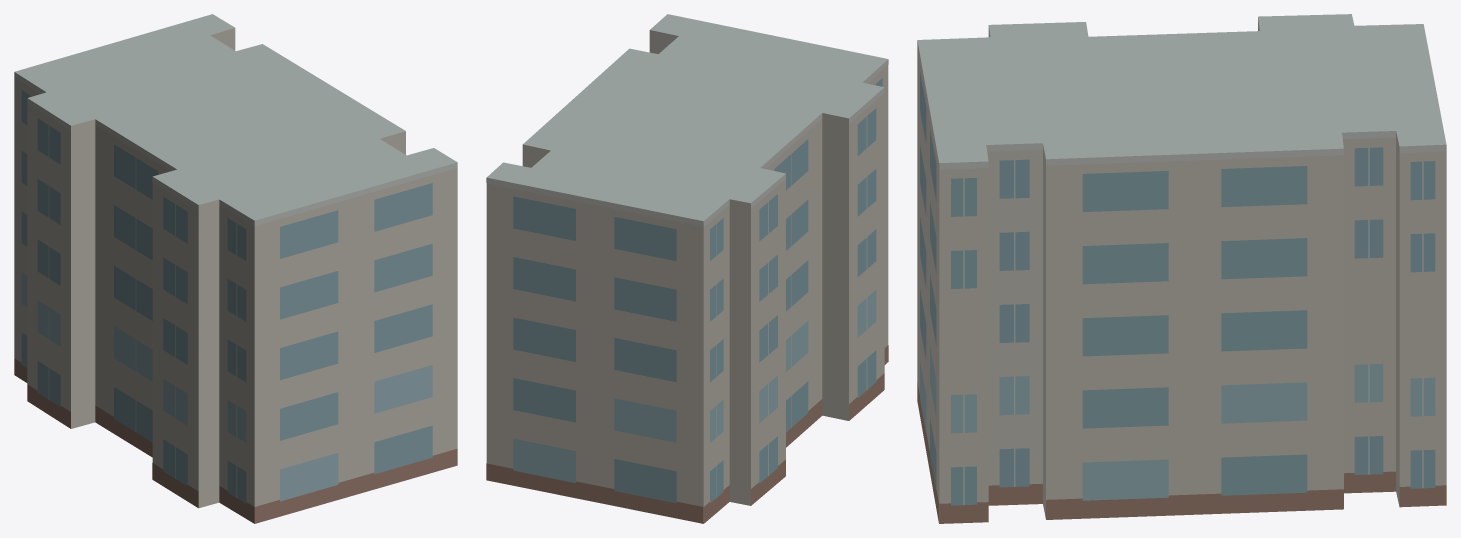
File: survey-upis-32755193.glb
3 renders of one model, left to right at view 1: azimuth 30°, elevation 25°; view 2: azimuth 150°, elevation 25°; view 3: azimuth 270°, elevation 25°, orthographic. The views are drawn at different scales.
Visible parts, largest first — view 1: survey-upis-32755193.tmp; view 2: survey-upis-32755193.tmp; view 3: survey-upis-32755193.tmp.
Part boxes in pixels (<box>): survey-upis-32755193.tmp: <box>14,14,457,523</box>; survey-upis-32755193.tmp: <box>486,14,888,523</box>; survey-upis-32755193.tmp: <box>917,14,1446,523</box>.
Bounding box in the file's own units: 11.89 × 13.4 × 17.82.
